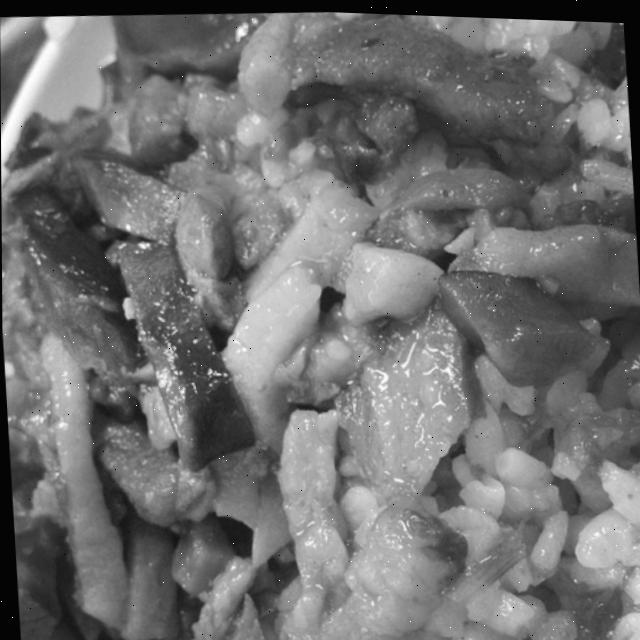猪肉菜式: (5, 13, 640, 640)
